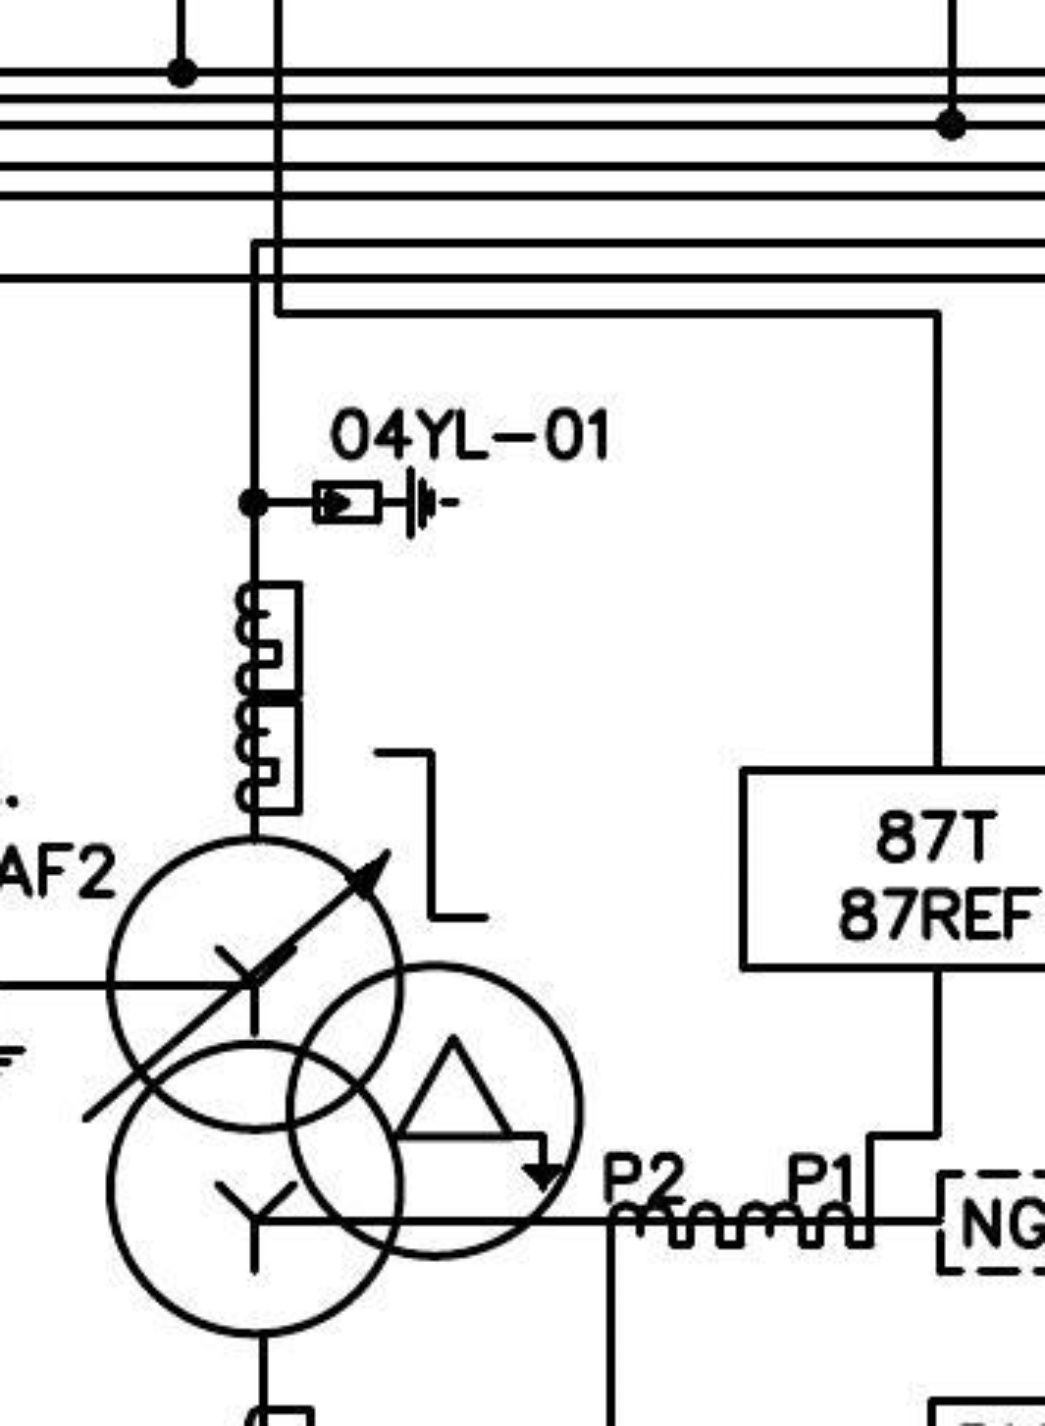11522_tx_ynyn0d1: (102, 832, 588, 1342)
115_la: (310, 463, 462, 542)
